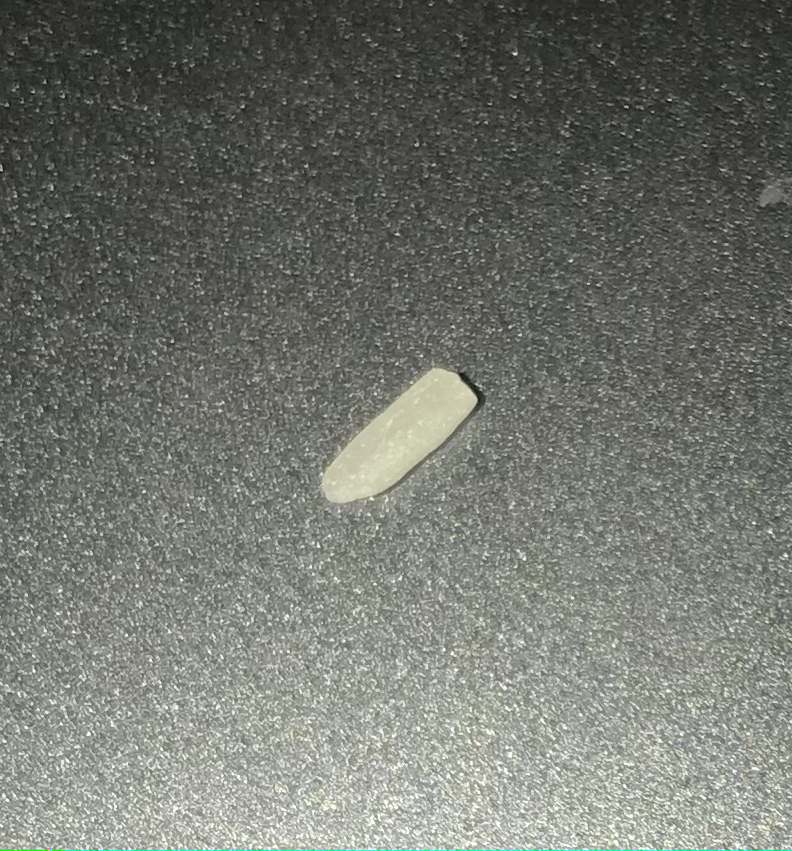Gao Tam Thom: (310, 355, 501, 514)
